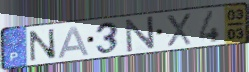3: (94, 20, 124, 56)
4: (197, 9, 221, 44)
A: (56, 25, 92, 60)
N: (124, 15, 157, 54), (28, 28, 59, 63)
X: (164, 12, 193, 48)
